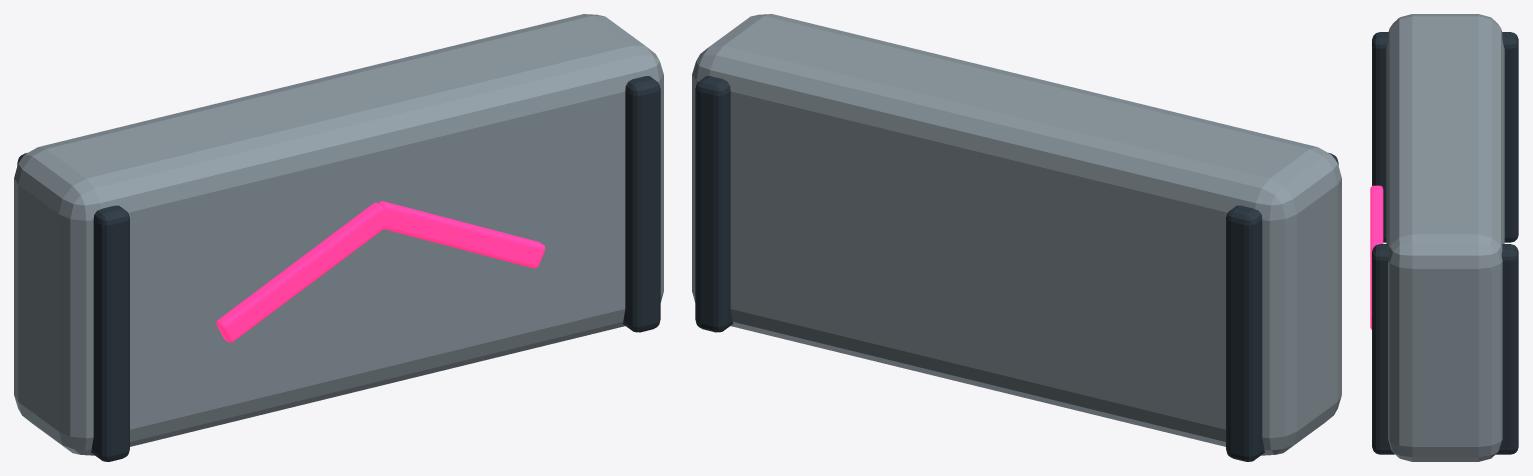
Rendered from vault-barrier.glb.
3 views of the same model, side by side, from view 1: azimuth 30°, elevation 25°; view 2: azimuth 150°, elevation 25°; view 3: azimuth 270°, elevation 25° (orthographic). The views are drawn at different scales.
Visible parts, largest first — view 1: vault_barrier_surface_00, vault_barrier_surface_01, vault_barrier_surface_02; view 2: vault_barrier_surface_00, vault_barrier_surface_01; view 3: vault_barrier_surface_00, vault_barrier_surface_01, vault_barrier_surface_02.
Part boxes in pixels (box(x1,y1,x2,y2)): vault_barrier_surface_00: box(14, 14, 663, 455); vault_barrier_surface_01: box(17, 76, 660, 461); vault_barrier_surface_02: box(216, 201, 545, 342); vault_barrier_surface_00: box(692, 14, 1341, 455); vault_barrier_surface_01: box(695, 76, 1338, 461); vault_barrier_surface_00: box(1386, 14, 1504, 461); vault_barrier_surface_01: box(1372, 32, 1518, 454); vault_barrier_surface_02: box(1370, 185, 1383, 329).
Size of the model in its own units: 2.4 by 1.05 by 0.6275.
